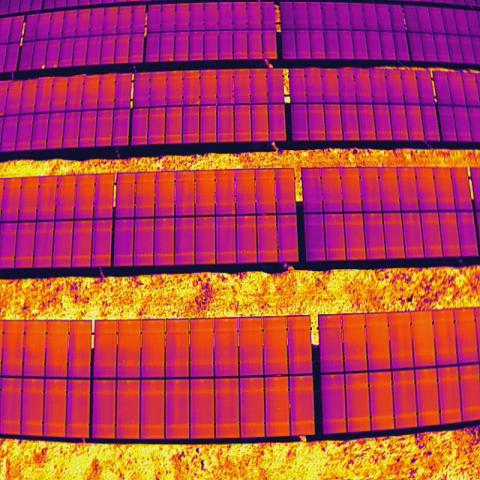fault: (40, 62, 46, 70), (51, 62, 58, 68), (196, 100, 200, 105)
